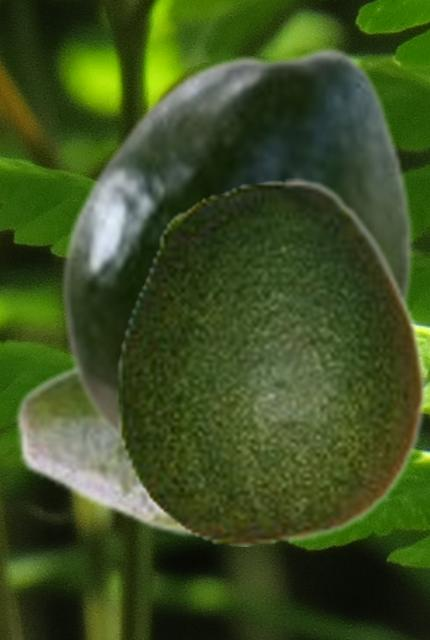avocado: (59, 45, 413, 450), (115, 178, 426, 545), (12, 362, 194, 538)
